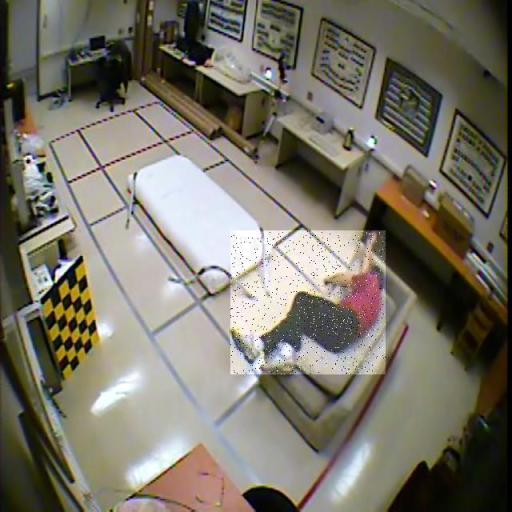Fall: (231, 231, 386, 375)
